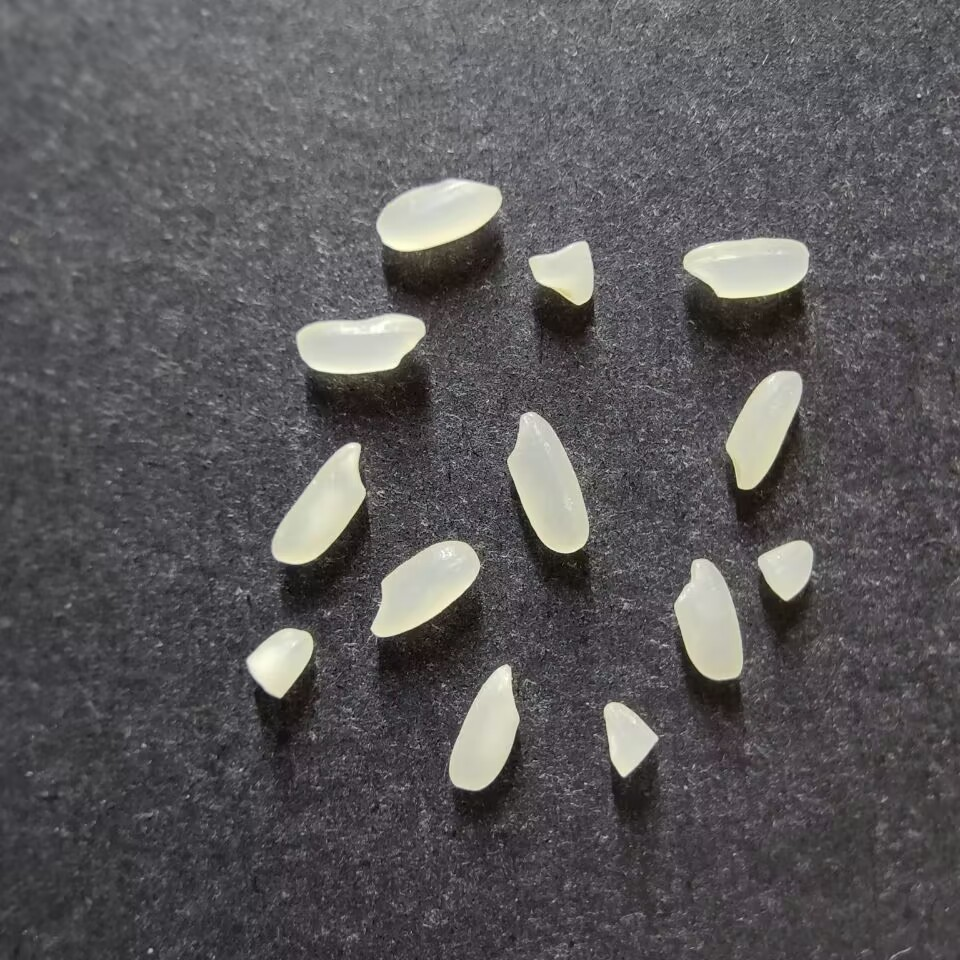broken: (245, 627, 314, 699), (527, 240, 594, 306), (602, 701, 659, 778), (756, 540, 814, 602)
rice: (270, 438, 367, 565), (506, 410, 590, 554), (368, 540, 480, 638), (723, 368, 804, 490), (375, 177, 503, 252), (447, 664, 520, 791), (673, 557, 744, 682), (681, 236, 809, 299), (295, 313, 425, 374)
